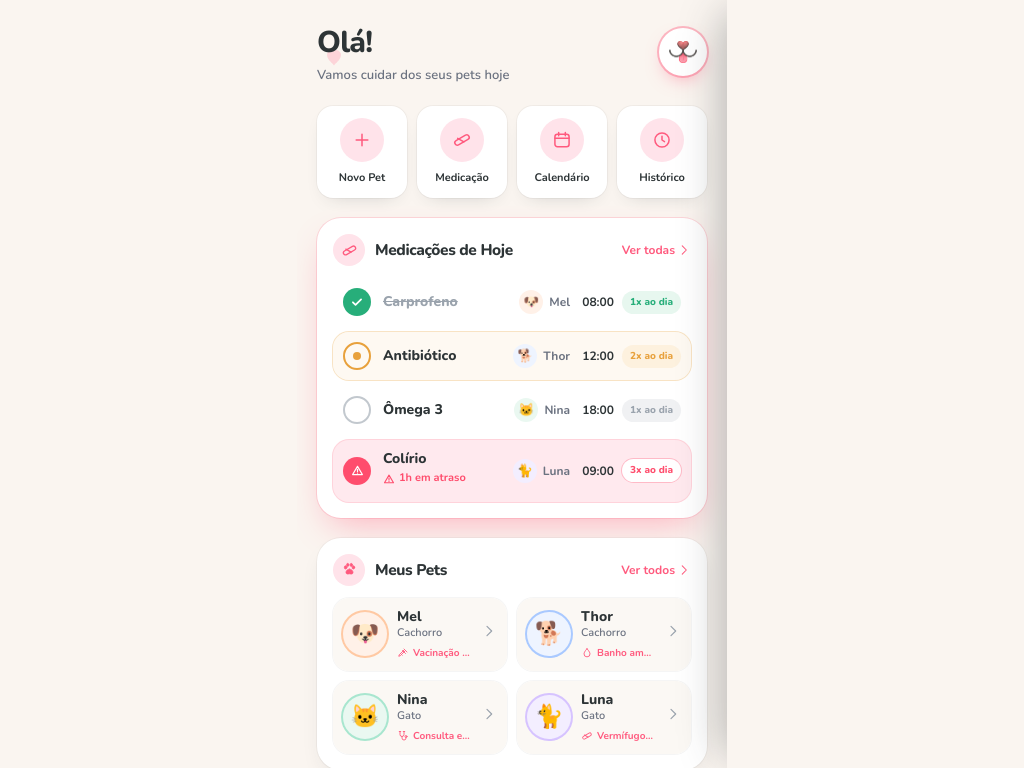
Scenario: DashboardScreen › opens and closes the sidebar overlay
Click the button named "abrir menu".
click(683, 52)  # box [659, 28, 707, 76]
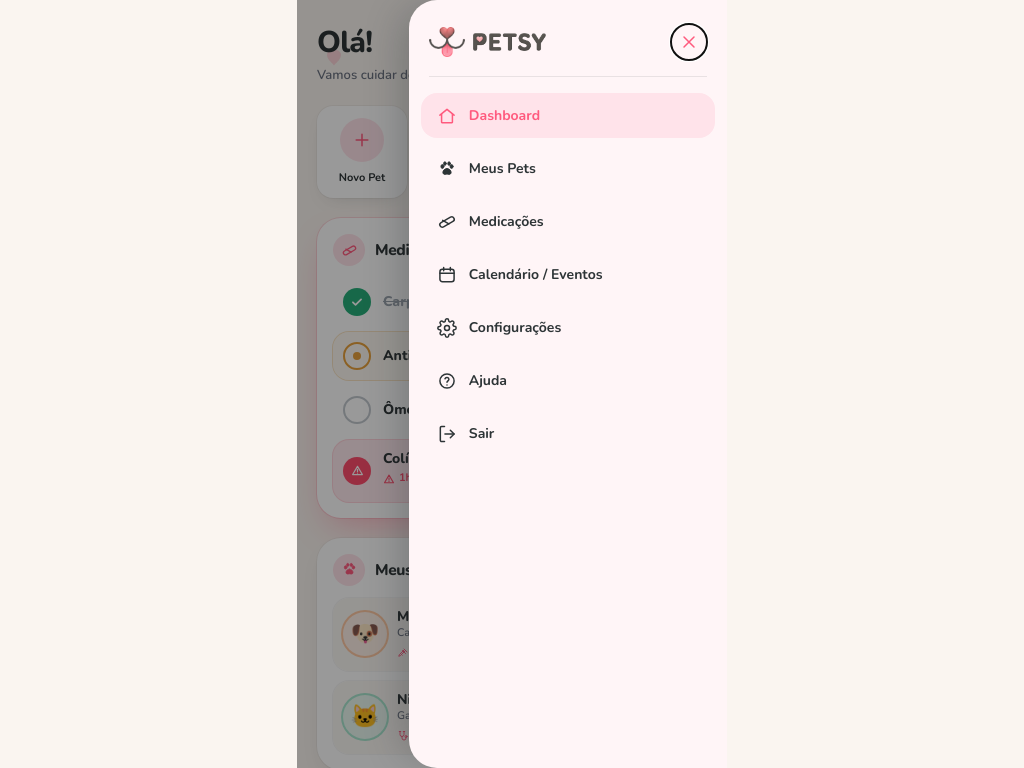
Expected: the dialog named "menu" is shown, [409, 0, 727, 767]
Expected: the button "Configurações" is shown, [421, 305, 715, 350]
Click the 1st button named "fechar menu".
click(323, 384)  # box [297, 0, 727, 767]
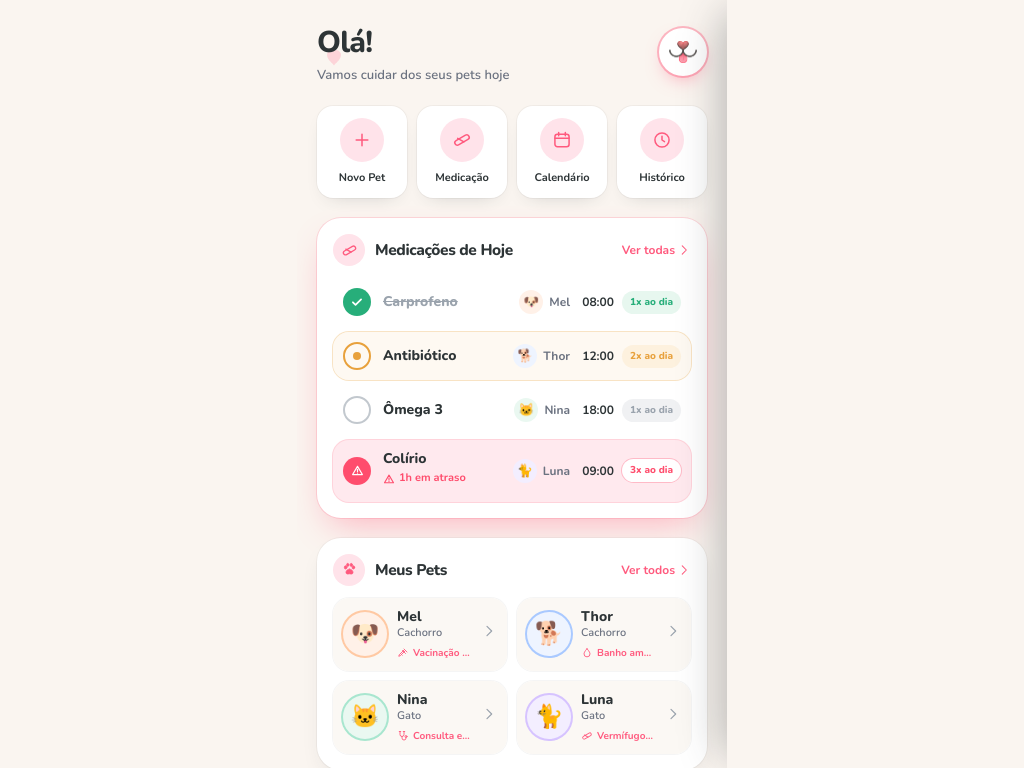
Expected: the dialog is gone
